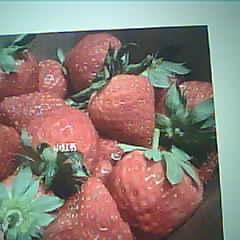straw-ripe: (112, 150, 202, 237), (90, 74, 156, 144)
